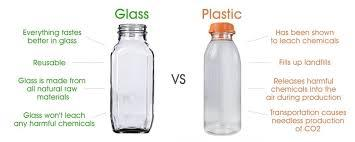Container for household chemicals: (198, 24, 246, 137)
Glass bottle: (106, 22, 155, 138)
